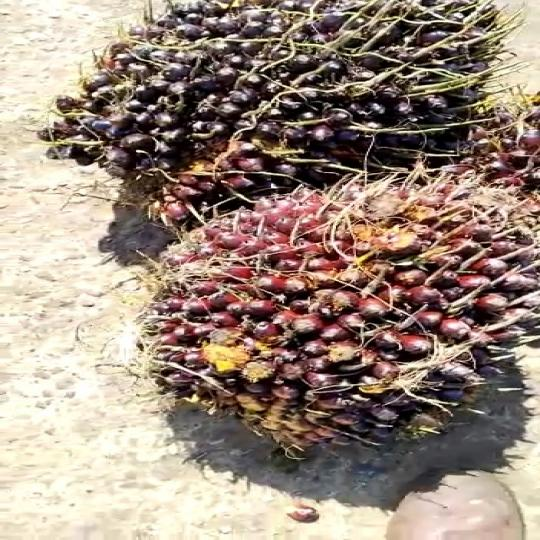kurang masak: (107, 159, 540, 468), (50, 0, 520, 206)
